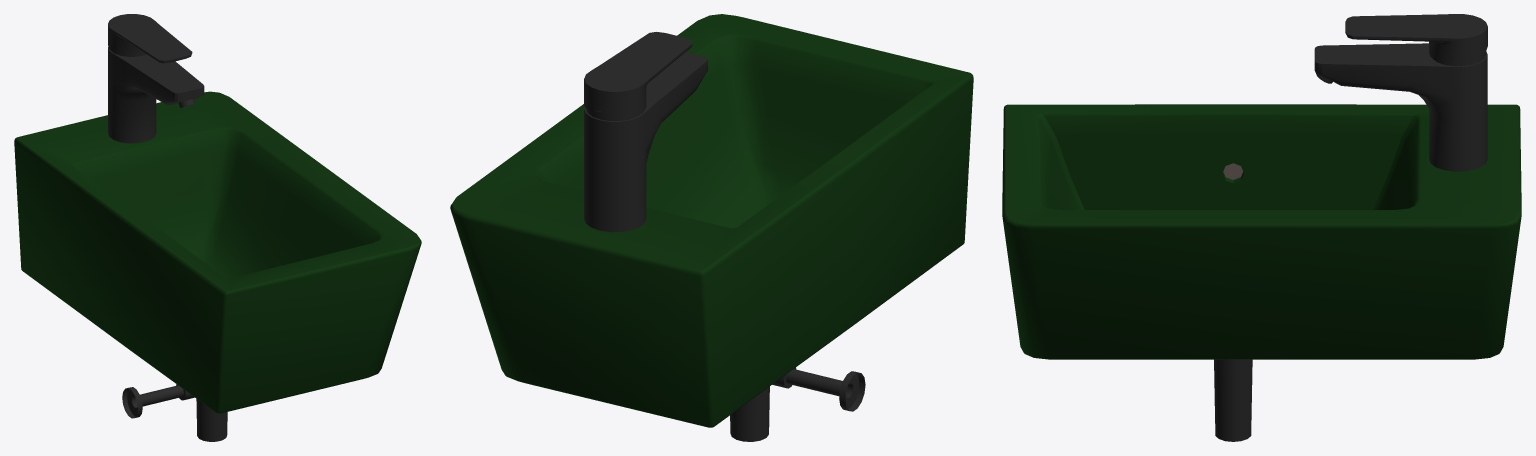
File: Umyvadlo_SoftMood_IDEAL.FBX
3 views of the same model, side by side, from view 1: azimuth 30°, elevation 25°; view 2: azimuth 150°, elevation 25°; view 3: azimuth 270°, elevation 25° (orthographic). The views are drawn at different scales.
Parts seen in each view (by area): view 1: Umyvadlo_SoftMood_IDEAL; view 2: Umyvadlo_SoftMood_IDEAL; view 3: Umyvadlo_SoftMood_IDEAL.
Part boxes in pixels (x1,y1,x2,y2): Umyvadlo_SoftMood_IDEAL: [14, 14, 421, 441]; Umyvadlo_SoftMood_IDEAL: [450, 14, 973, 441]; Umyvadlo_SoftMood_IDEAL: [1002, 14, 1521, 441].
Bounding box in the file's own units: 25 × 39.69 × 45.01.
